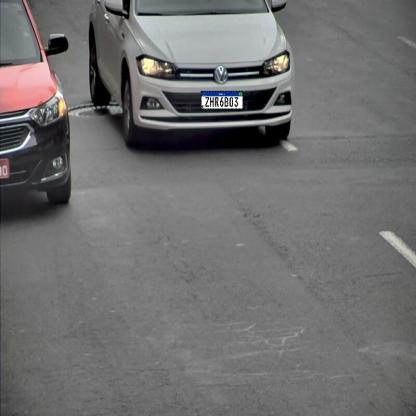PlacaM: (201, 91, 243, 109)
